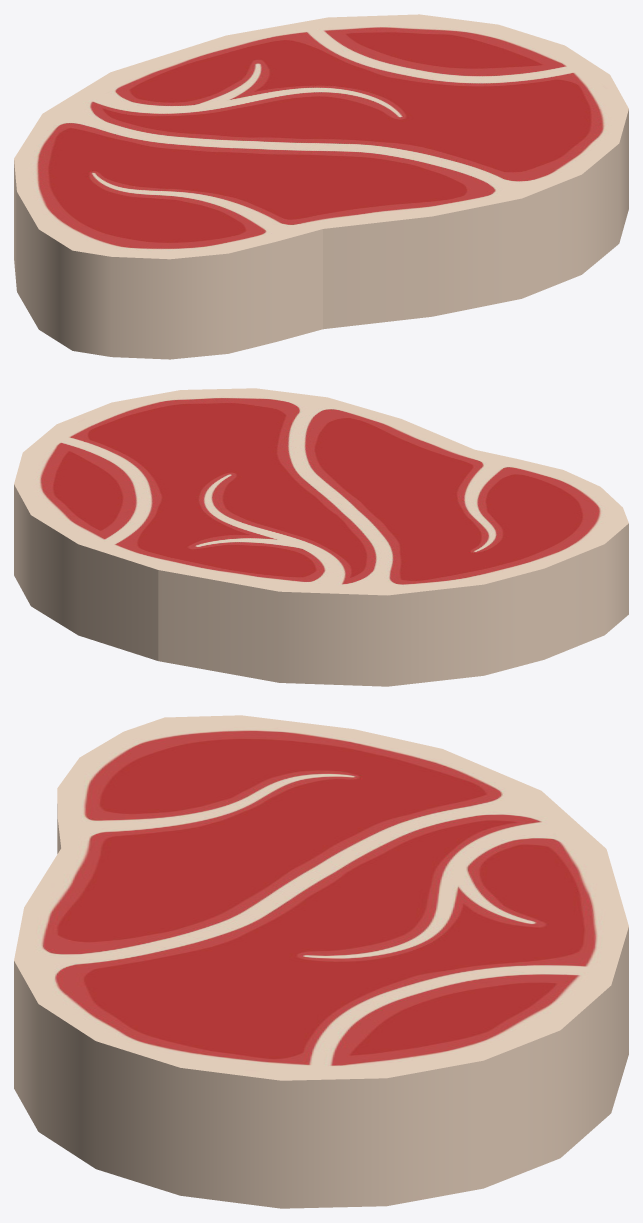
Rendered from Meat.fbx.
The picture shows the model from 3 angles, top to bottom: view 1: azimuth 30°, elevation 25°; view 2: azimuth 150°, elevation 25°; view 3: azimuth 270°, elevation 25°; orthographic projection. The views are drawn at different scales.
Parts seen in each view (by area): view 1: Meat_1; view 2: Meat_1; view 3: Meat_1.
Boxes of the visible parts, x1=… form: Meat_1: x1=14, y1=14, x2=628, y2=359; Meat_1: x1=14, y1=388, x2=628, y2=686; Meat_1: x1=14, y1=715, x2=628, y2=1208.
Size of the model in its own units: 55.24 by 9.02 by 39.29.
Materials: 1 (1 with a texture image).
